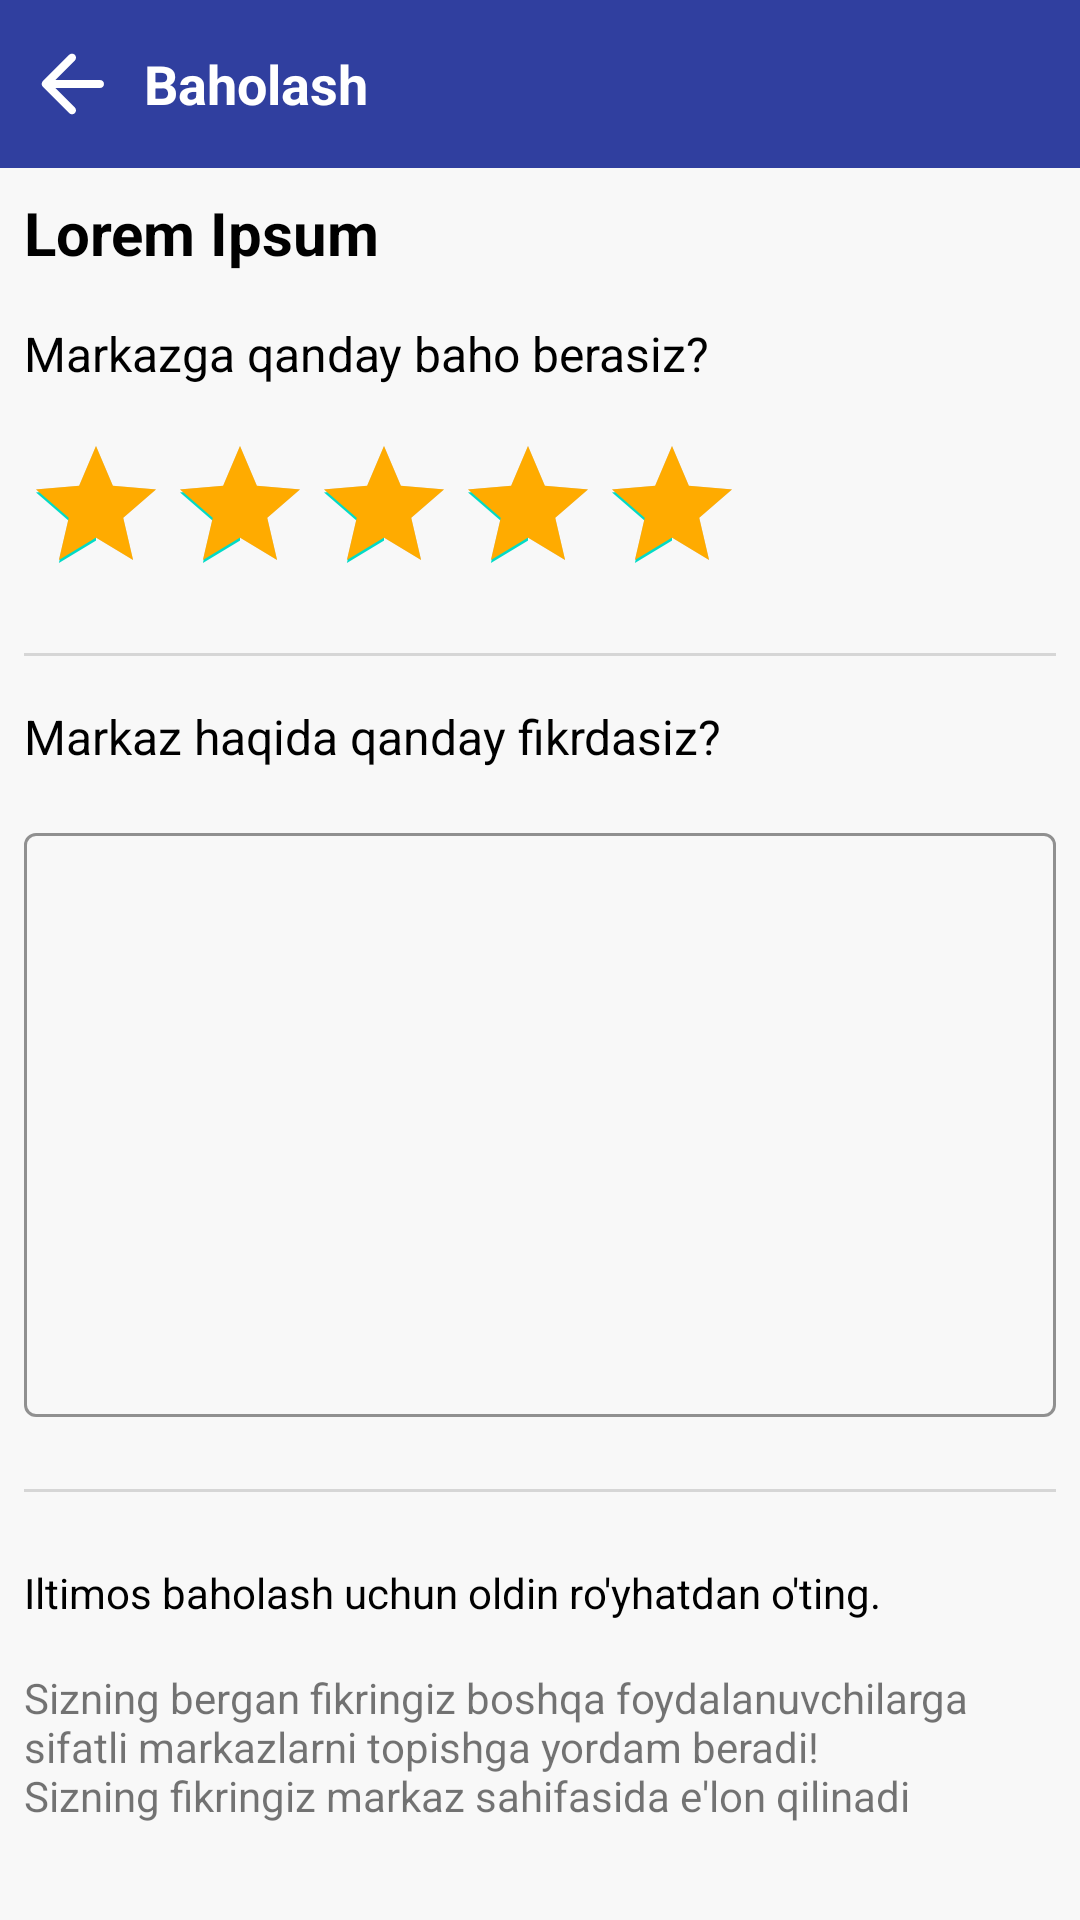

Where icons sit on this 1080 x 1920 app screen, as (x1, y1, x2, y2):
arrow back: (41, 53, 104, 115)
